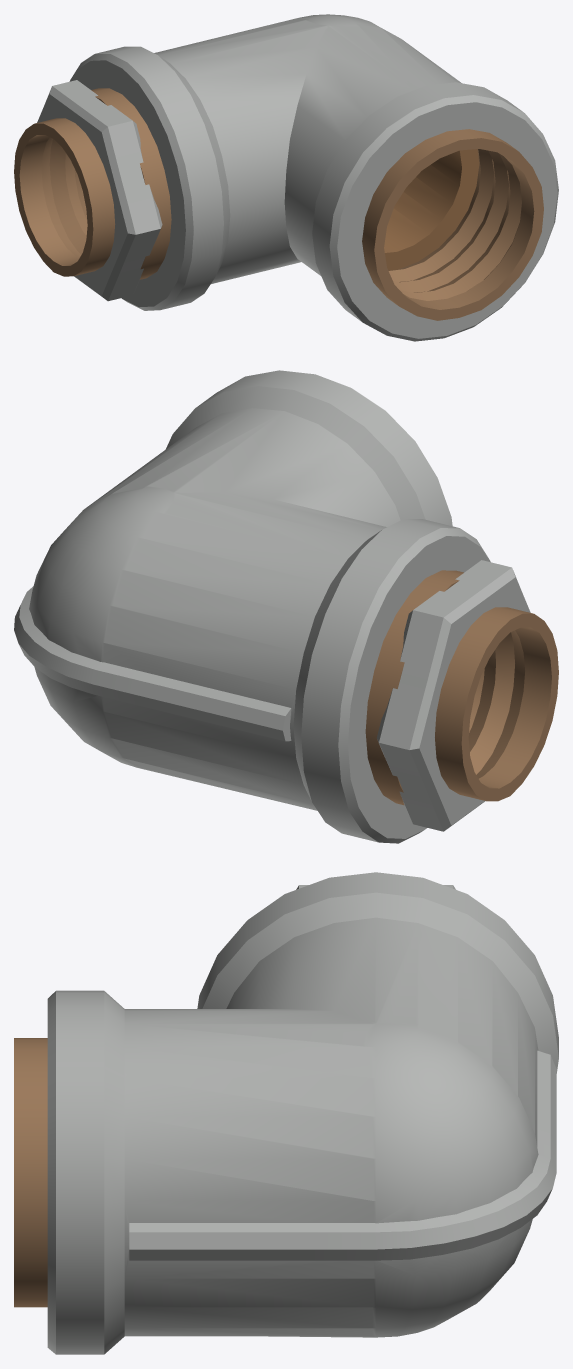
File: pipes_supply__shutoff_extra-attic+none_and_plumbing-galvanized.glb
The picture shows the model from 3 angles, top to bottom: view 1: azimuth 30°, elevation 25°; view 2: azimuth 150°, elevation 25°; view 3: azimuth 270°, elevation 25°; orthographic projection. The views are drawn at different scales.
Parts seen in each view (by area): view 1: fit_elbow_pipe_supply_cold_trunk__galvanized, fit_elbow_pipe_supply_cold_trunk__galvanized_bushing; view 2: fit_elbow_pipe_supply_cold_trunk__galvanized, fit_elbow_pipe_supply_cold_trunk__galvanized_bushing; view 3: fit_elbow_pipe_supply_cold_trunk__galvanized.
Boxes of the visible parts, x1,y1,x2,y2 form: fit_elbow_pipe_supply_cold_trunk__galvanized: [69, 14, 558, 341]; fit_elbow_pipe_supply_cold_trunk__galvanized_bushing: [14, 80, 162, 301]; fit_elbow_pipe_supply_cold_trunk__galvanized: [14, 370, 490, 843]; fit_elbow_pipe_supply_cold_trunk__galvanized_bushing: [377, 560, 558, 831]; fit_elbow_pipe_supply_cold_trunk__galvanized: [14, 872, 558, 1354].
Size of the model in its own units: 0.063 by 0.0371 by 0.0553.
